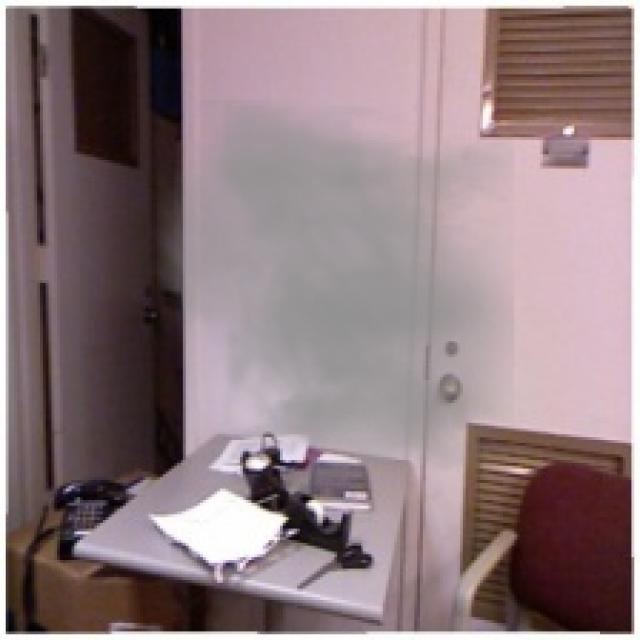smoke: (140, 100, 514, 471)
